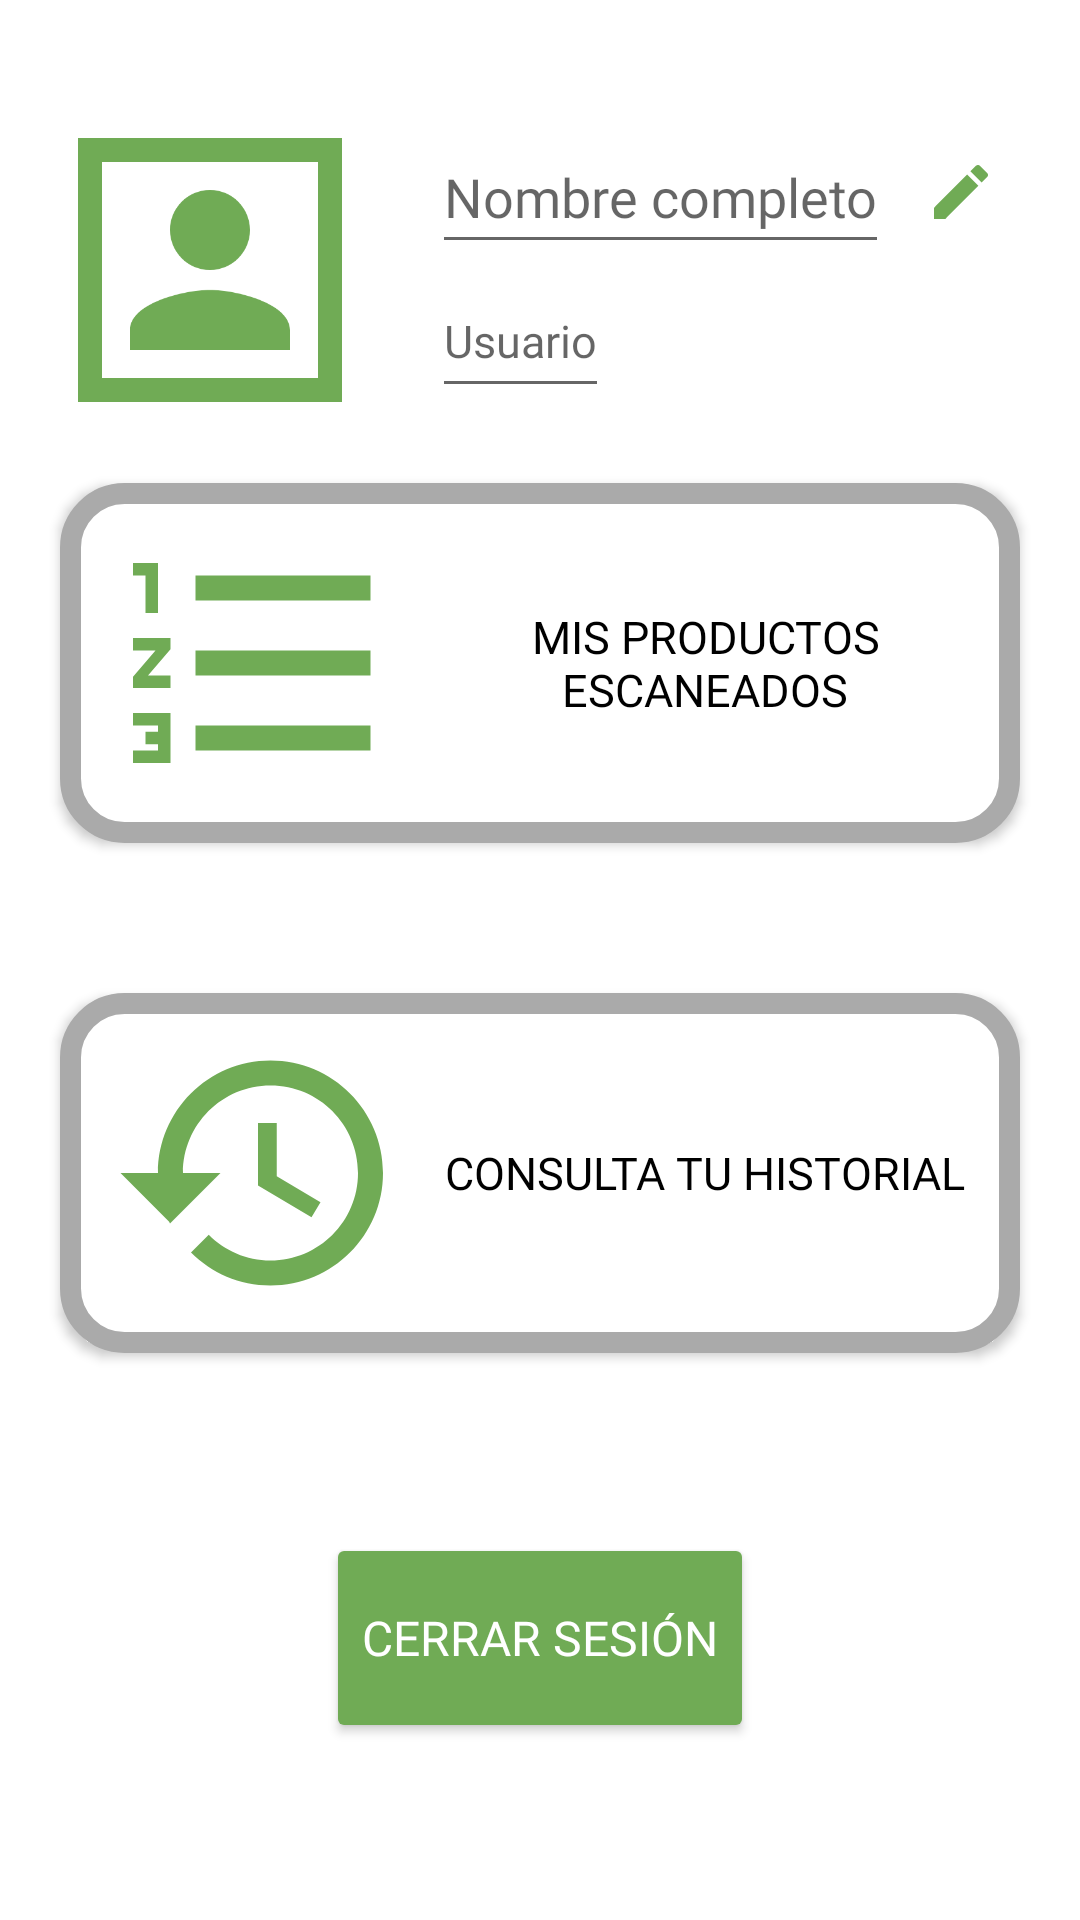

Named icons in this screenshot (1080 × 1920) and their bounding boxes, (x1, y1, x2, y2):
edit name: (934, 165, 988, 219)
profile pic: (78, 138, 342, 402)
